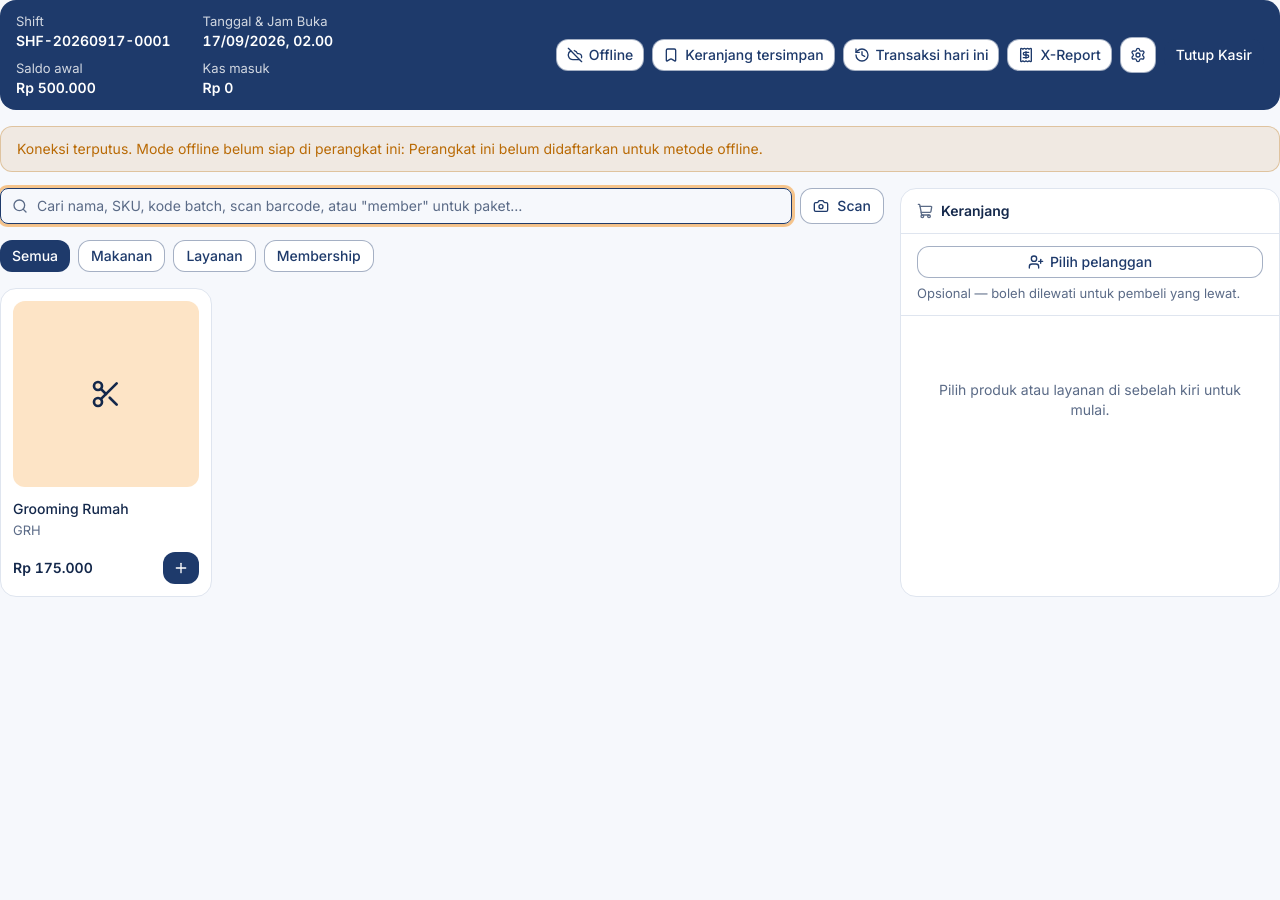
Test: PosServicePetDialog — priced beyond the animal › blocks with the zone reason when the customer has no pin
Click the button "Pilih pelanggan" at [1090, 262], box [917,246,1263,278]
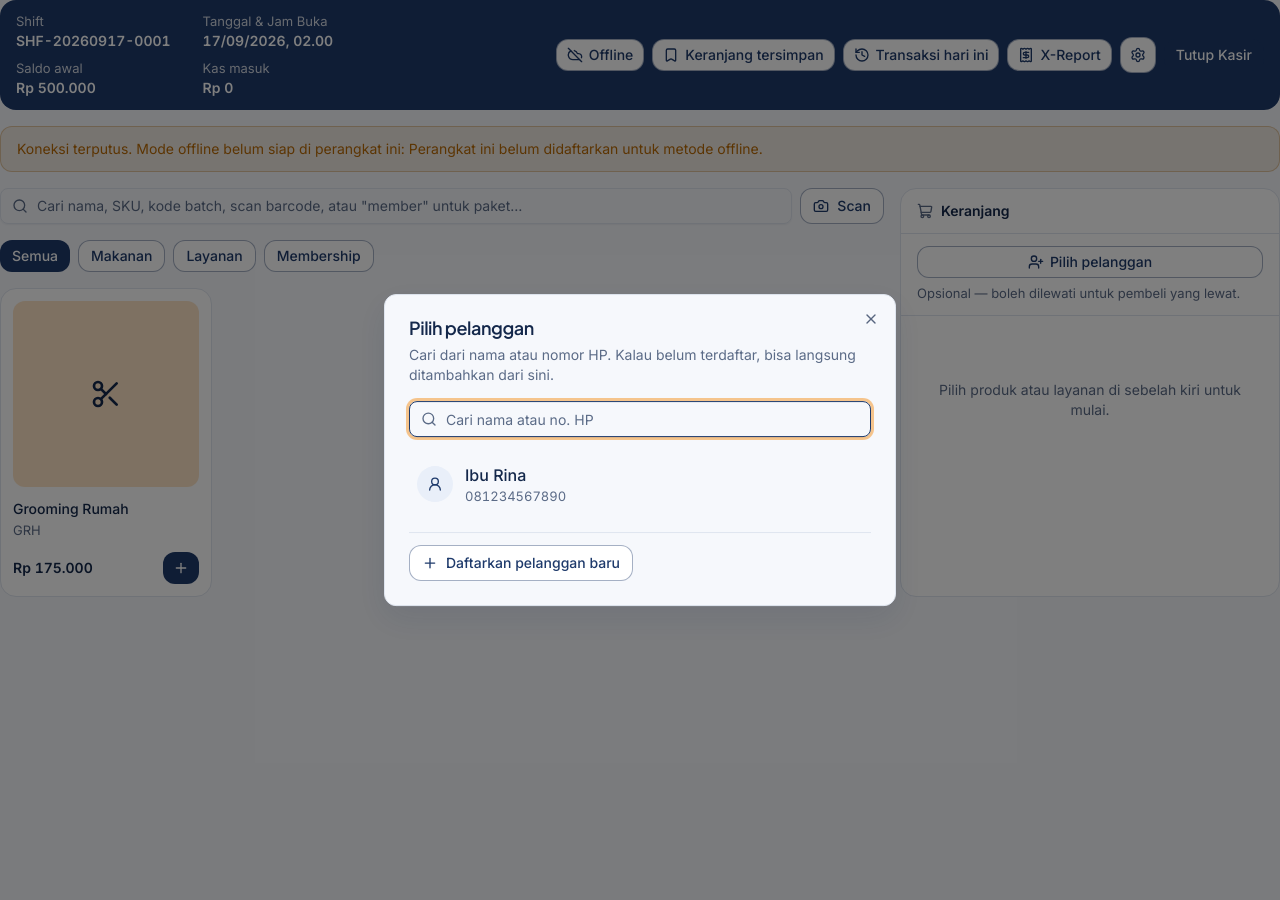
Click the text "Ibu Rina" at [496, 475], box [465,465,526,485]
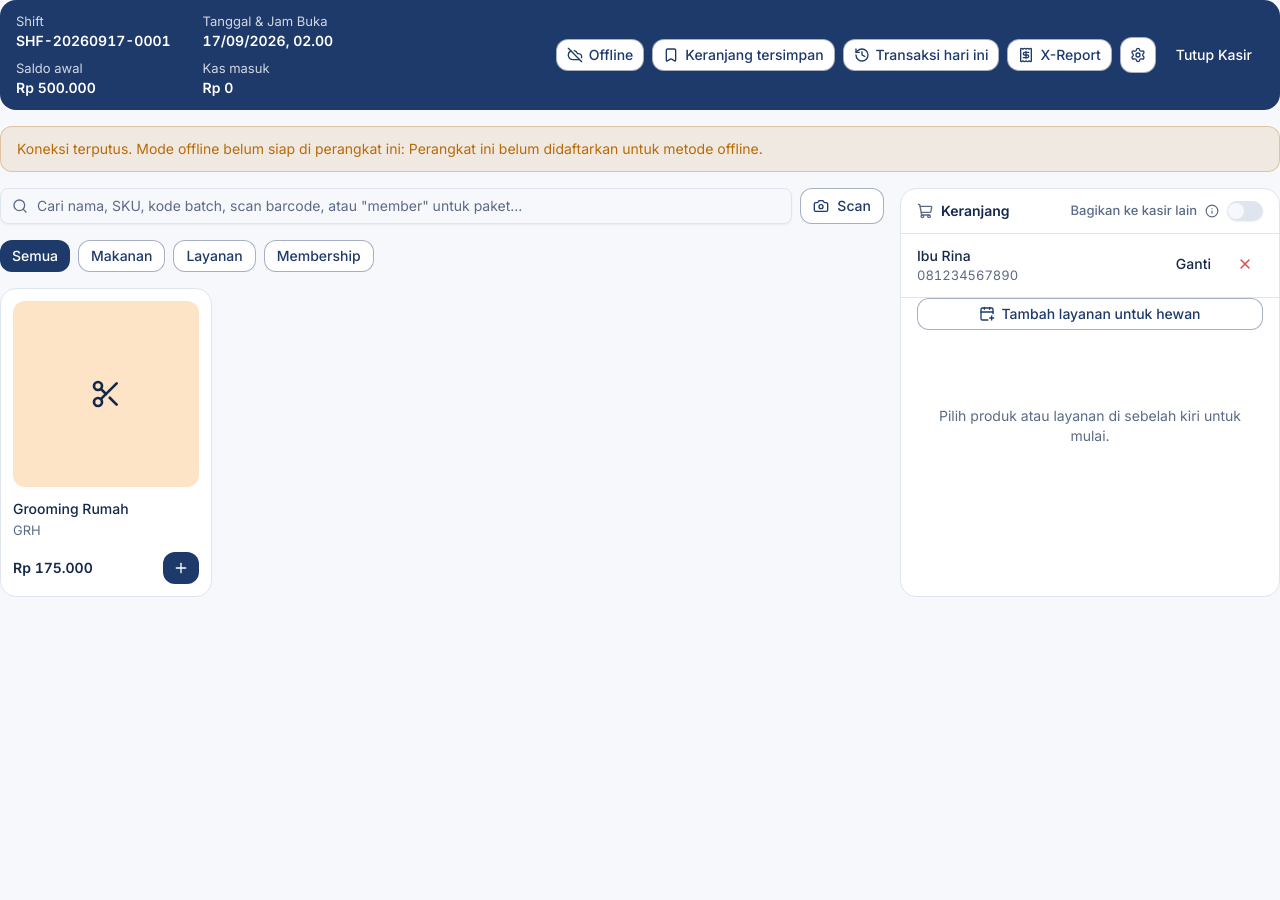
Click the button named "grooming rumah" at [181, 568], box [163,552,199,584]
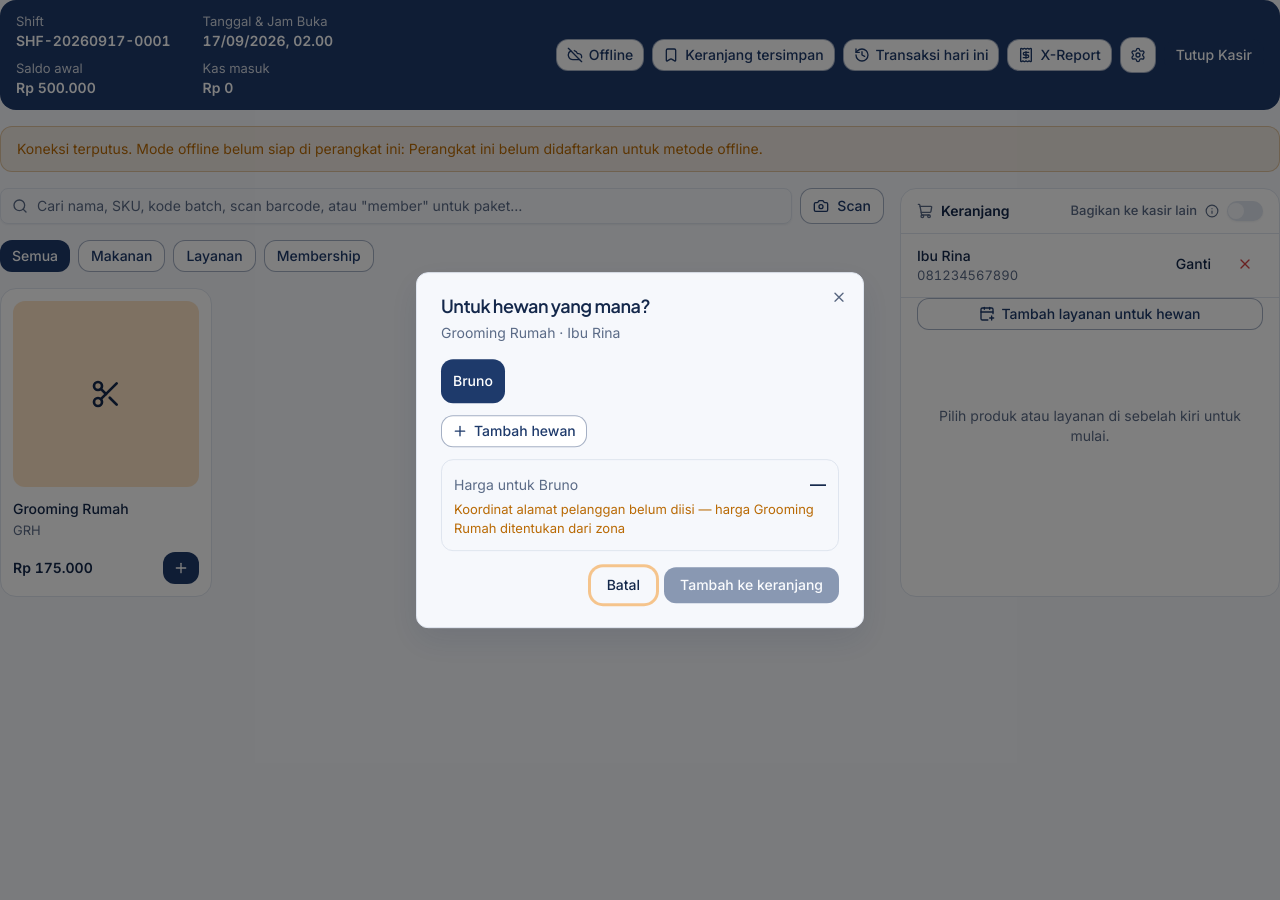
Expected: the heading "Untuk hewan yang mana?" is shown, [441,294,650,317]
Expected: the text "Koordinat alamat pelanggan belum diisi — harga Grooming Rumah ditentukan dari zona" is shown, [454,501,814,536]
Expected: the button "Tambah ke keranjang" is disabled, [664,567,839,603]
